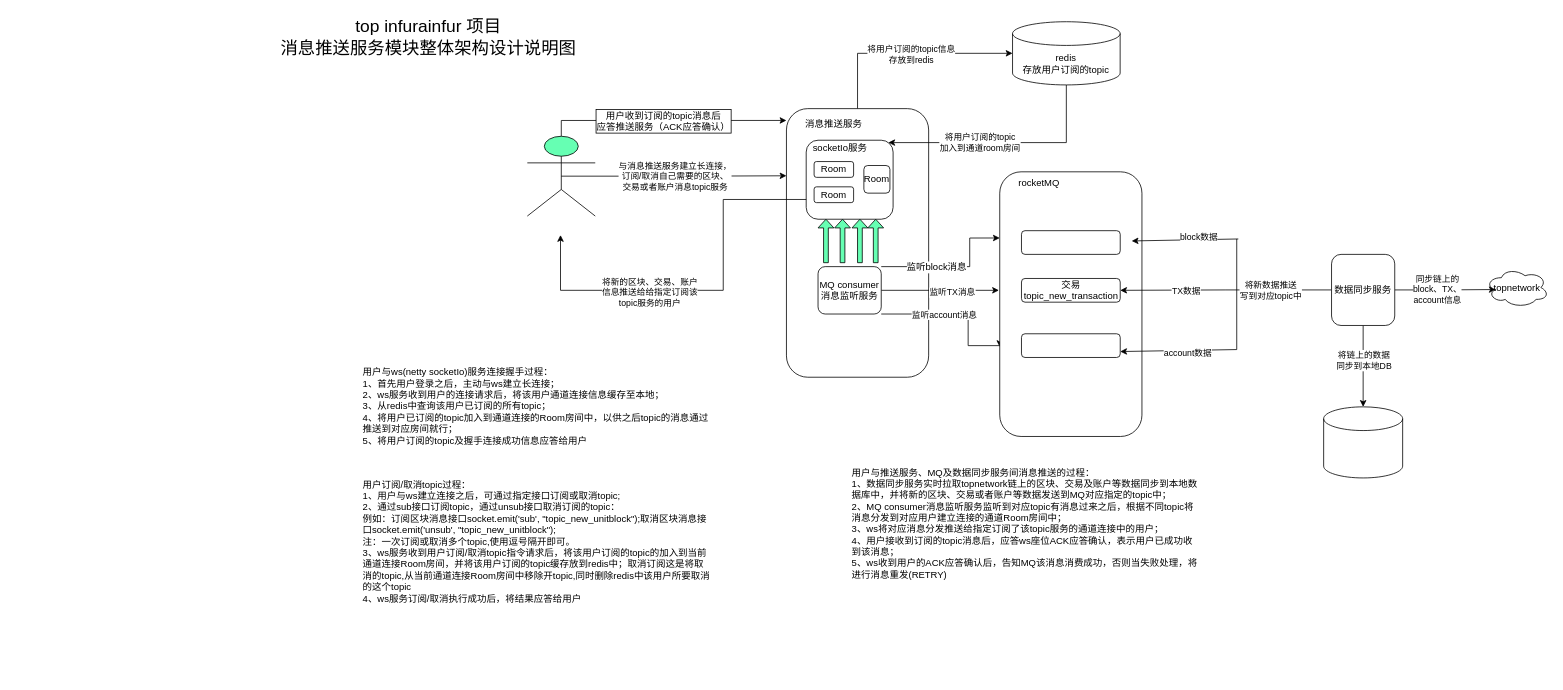
This 1563x690 diagram has some shape labels left out. The centre of each missing label's shape, as x and y in pixels:
"DB mysql数据库" goes at [1363,442].
"区块 topic_new_unitblock" goes at [1070,242].
"用户" goes at [561,175].
"账户 topic_new_account" goes at [1070,345].
